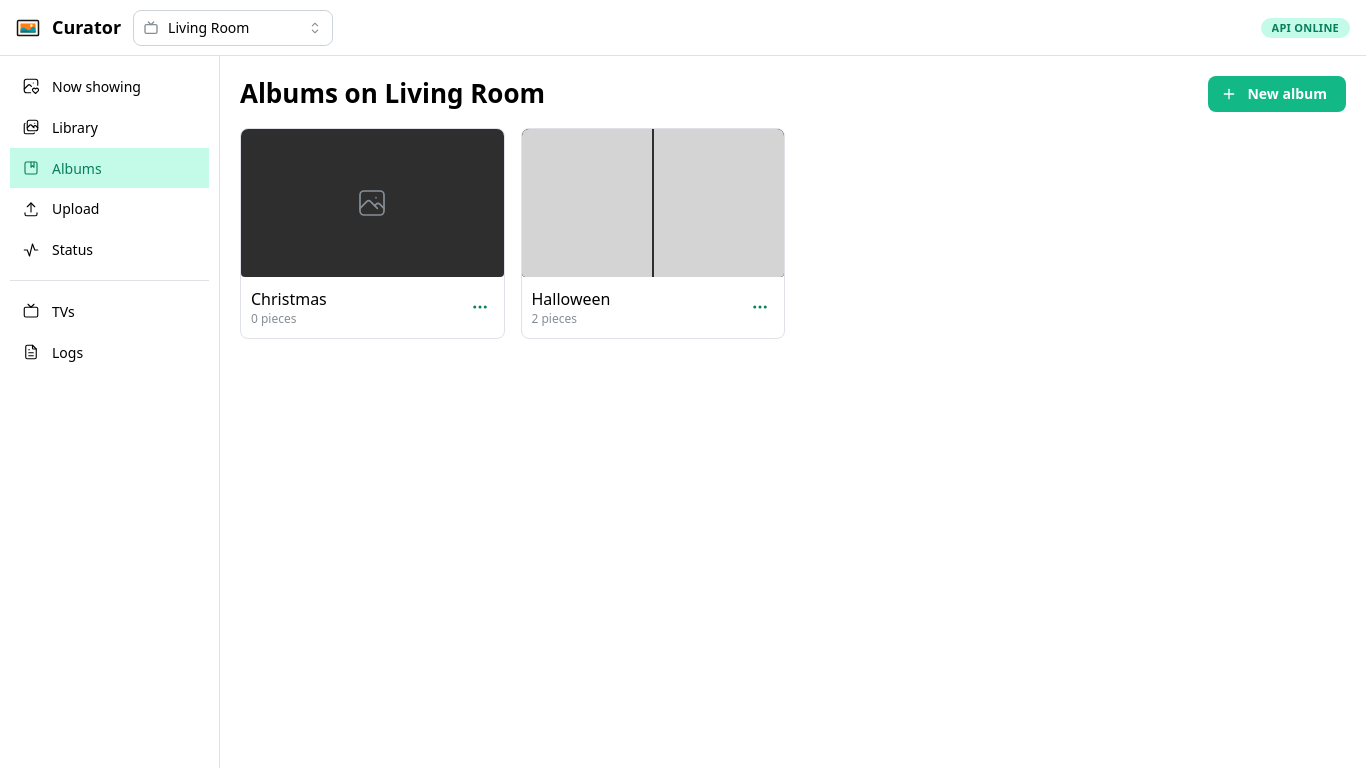
Test: albums › explains a name that is already taken
Step 1. Click the button "New album" → {"x": 1277, "y": 94}, box [1208,76,1346,112]
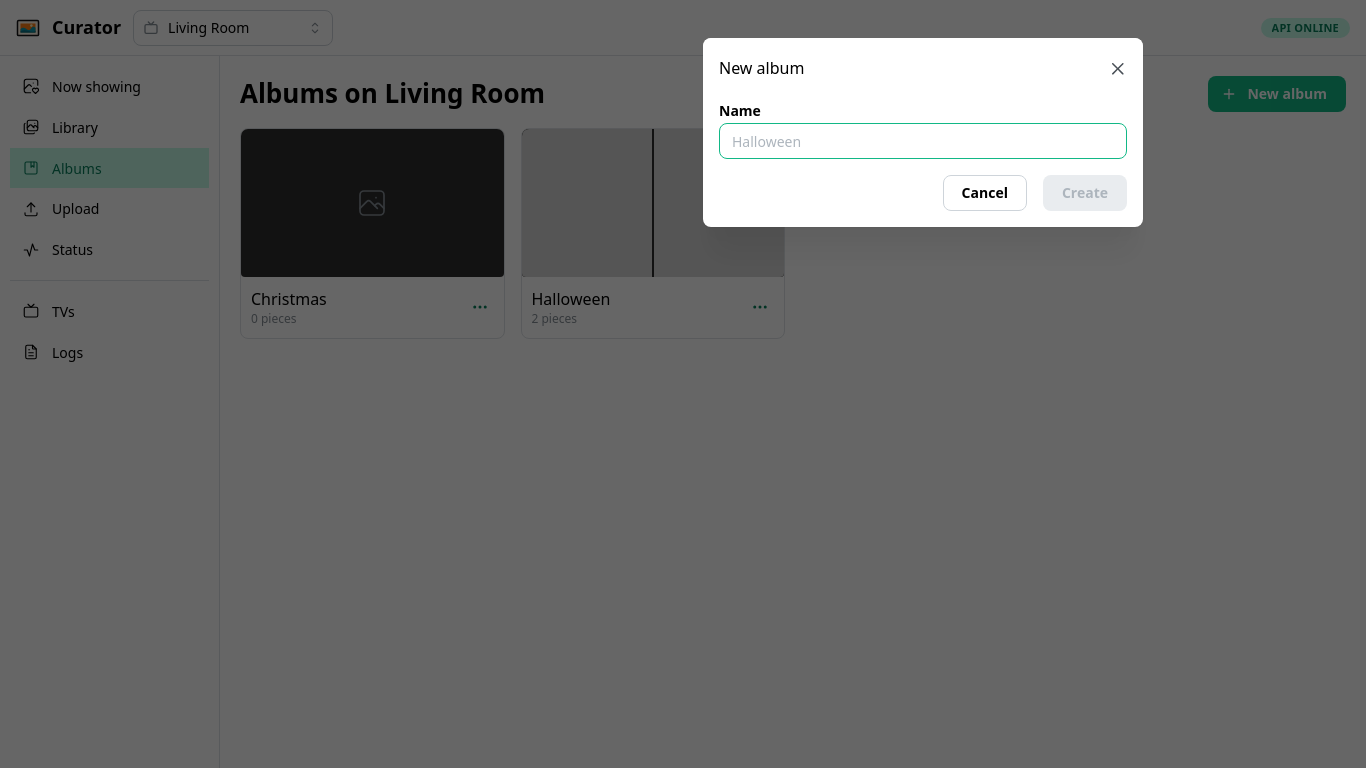
Step 2. Type "halloween" into the field labelled "Name" → {"x": 923, "y": 141}, box [719,123,1127,159]
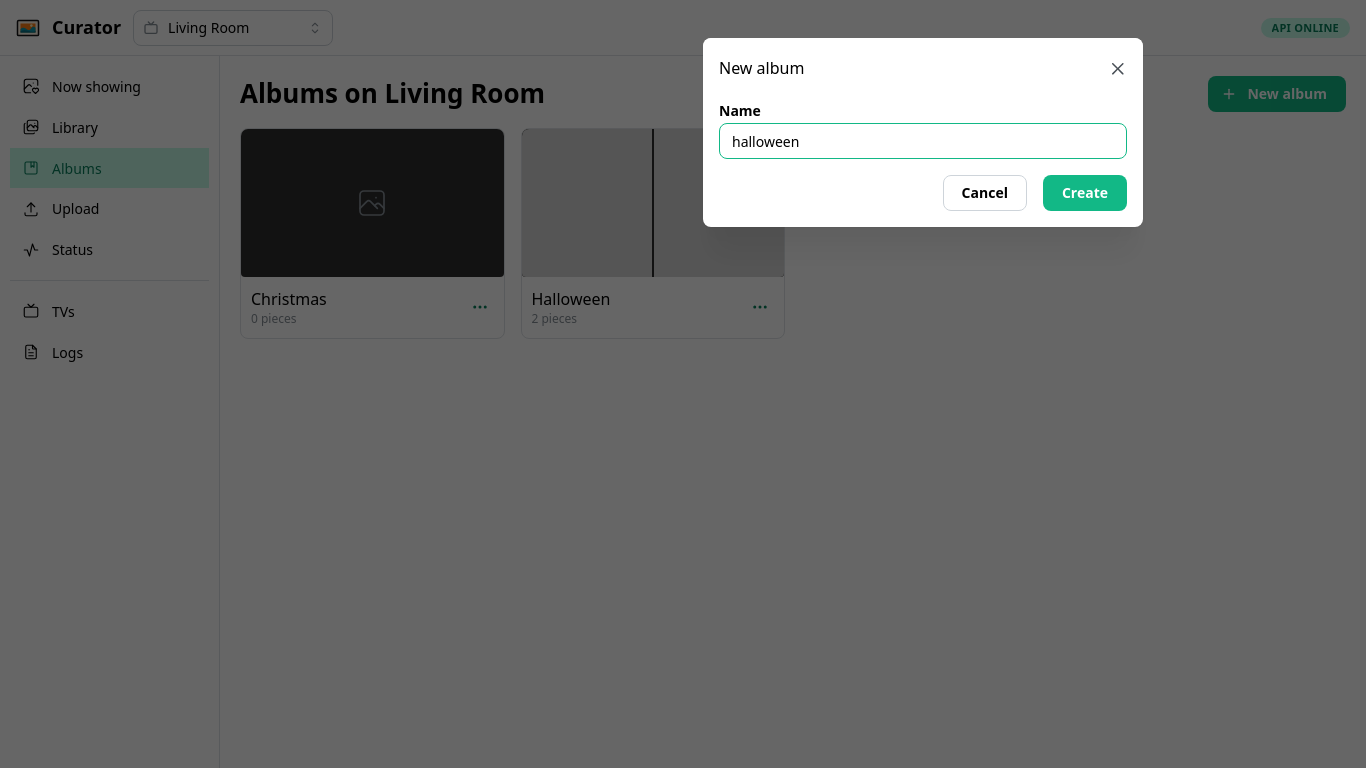
Step 3. Click the button "Create" → {"x": 1085, "y": 193}, box [1043,175,1127,211]
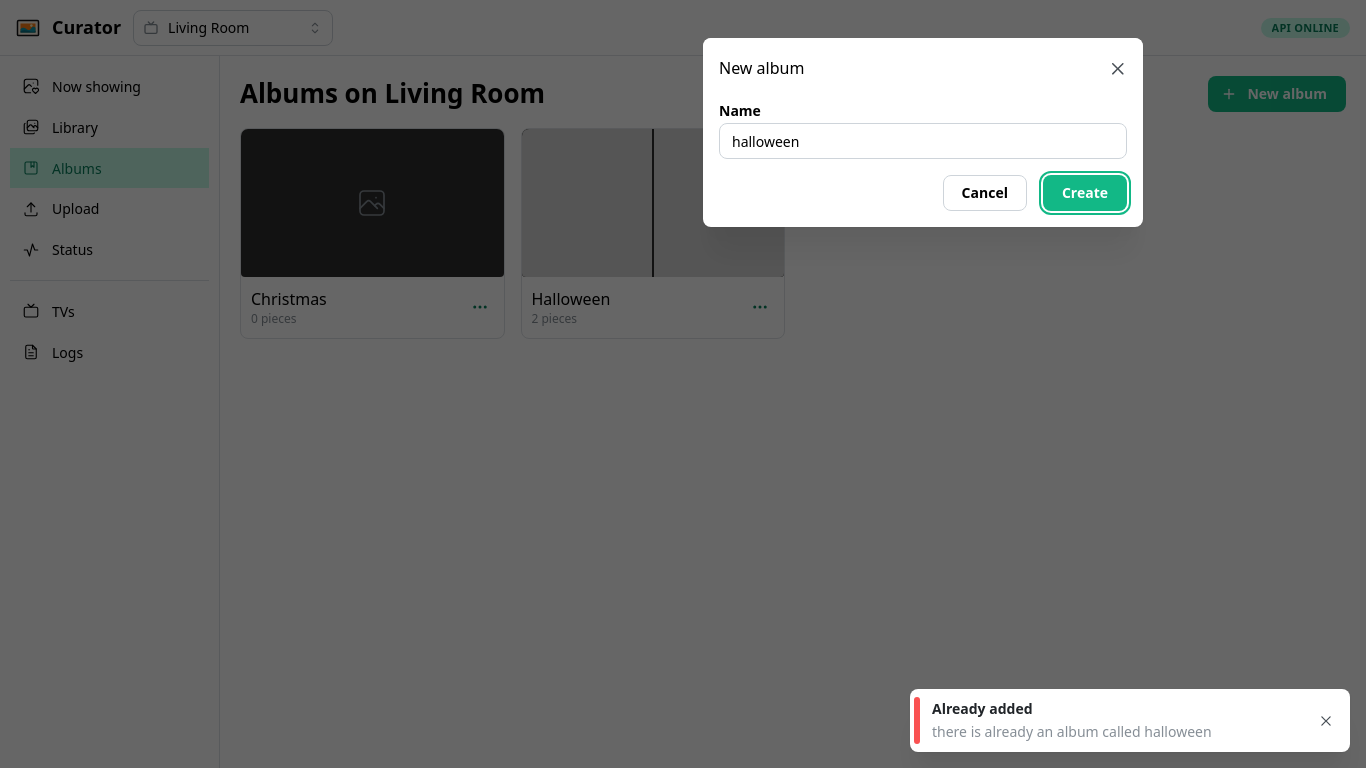
expect the text "there is already an album called halloween" is shown: met, box [932,722,1212,741]
